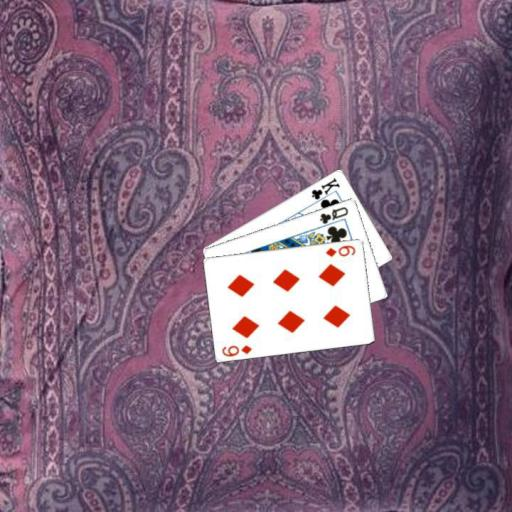6D: (323, 242, 357, 258), (219, 342, 253, 358)
KC: (309, 174, 341, 206)
QC: (316, 204, 350, 226)
